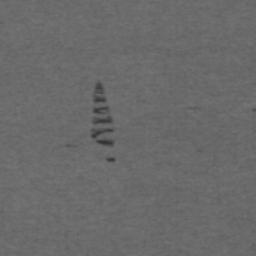Secondary rust skin: (90, 80, 115, 147), (105, 156, 117, 163)
